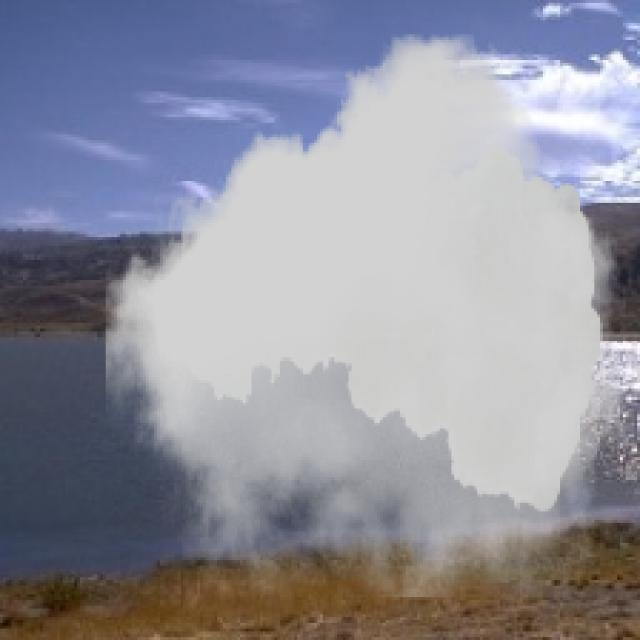Smoke: (105, 34, 626, 597)
